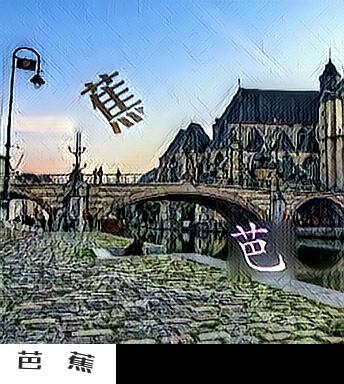character: (77, 66, 149, 141), (227, 219, 290, 282)
